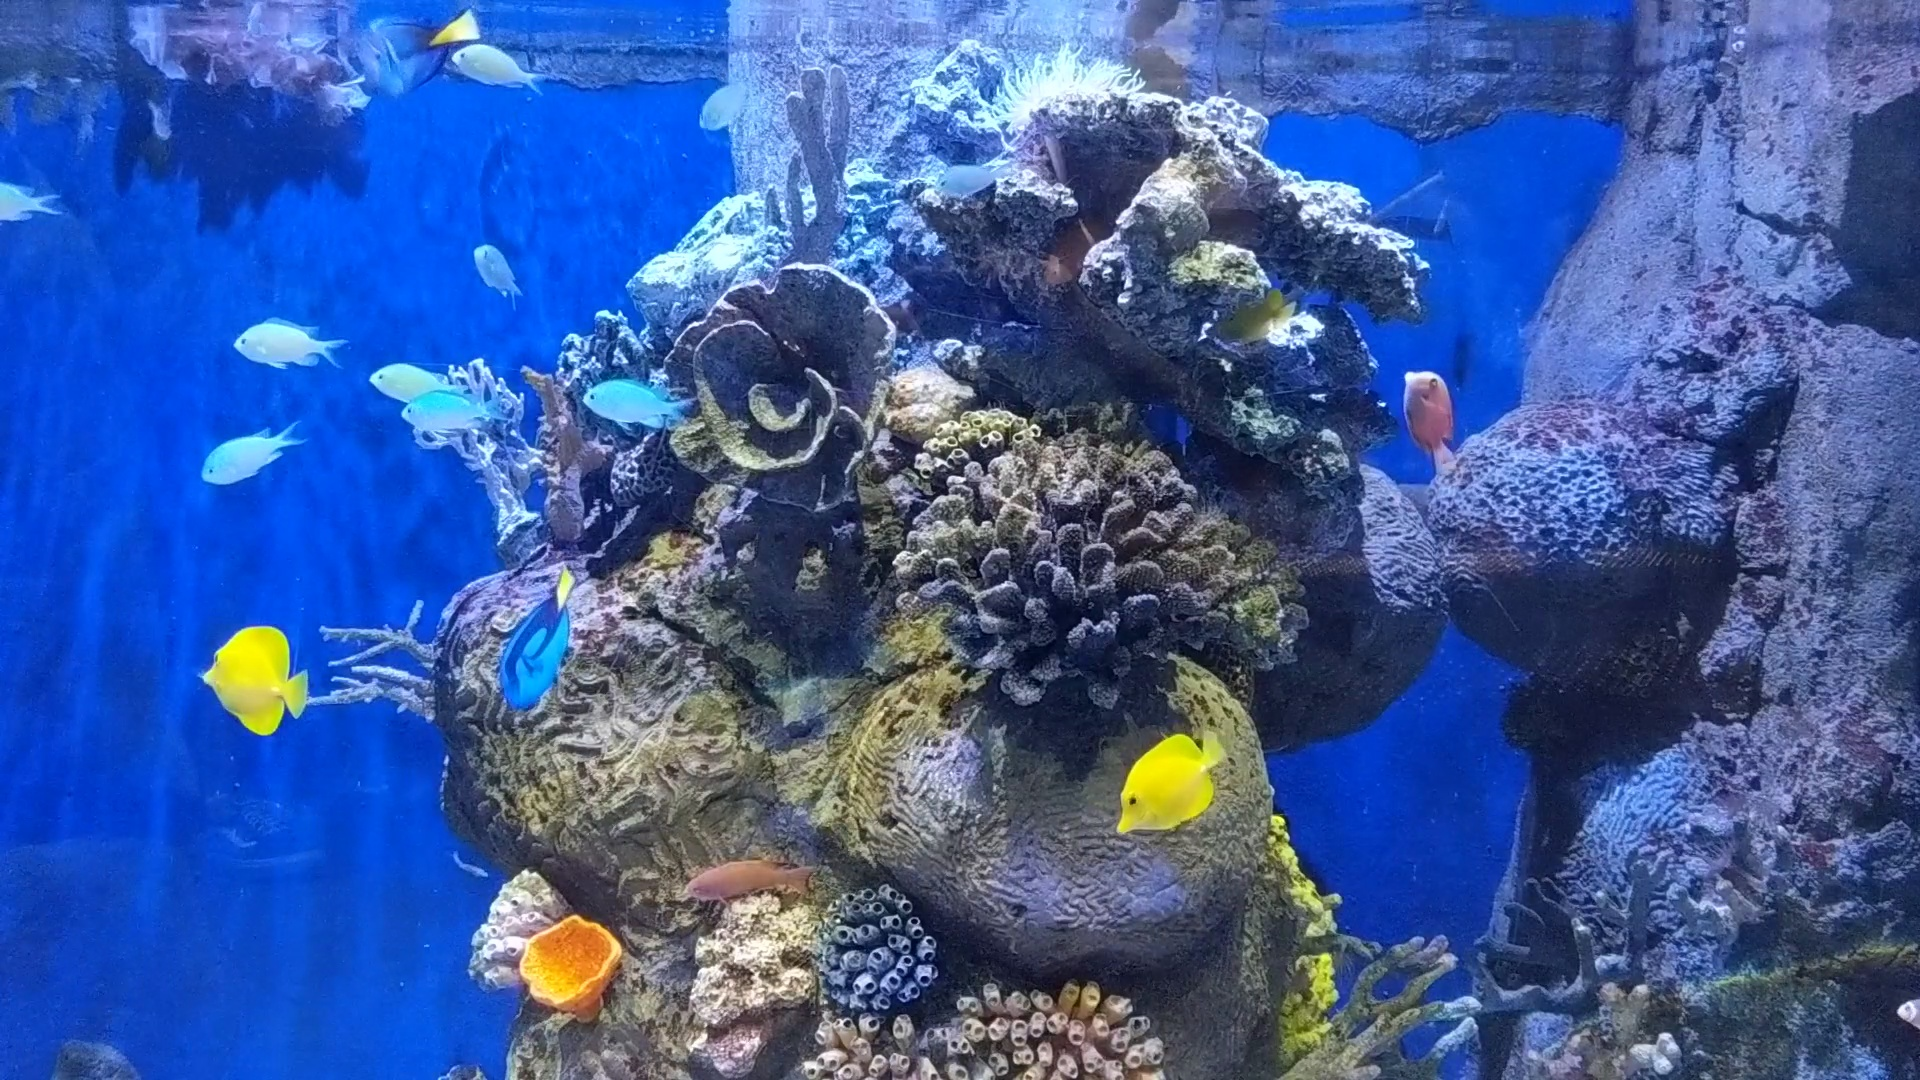blue tang surgeonfish: (487, 556, 597, 720), (328, 5, 476, 117)
damselfish: (580, 363, 707, 444), (179, 414, 305, 491), (446, 36, 556, 102), (407, 386, 502, 446), (229, 326, 332, 380), (460, 241, 534, 314), (375, 353, 464, 407), (934, 161, 1021, 211), (695, 75, 767, 135)
pink fish: (1389, 345, 1484, 492)
saddle butterfly fish: (1098, 713, 1232, 849), (196, 612, 310, 744)
